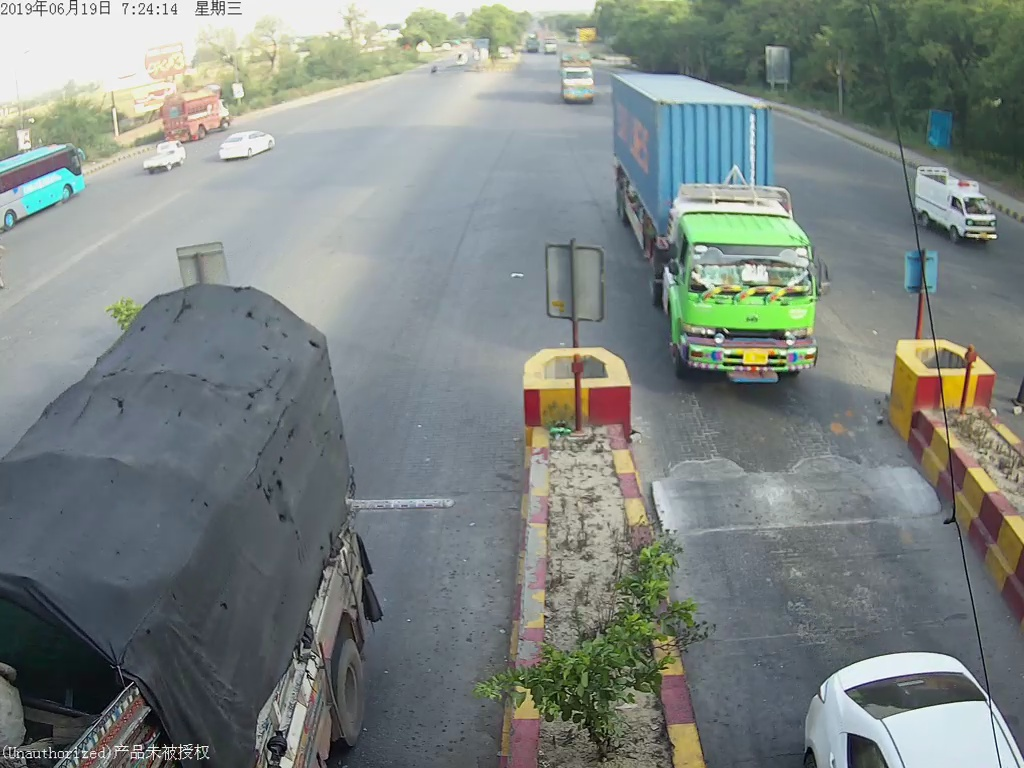Cat-5: (631, 79, 836, 379)
